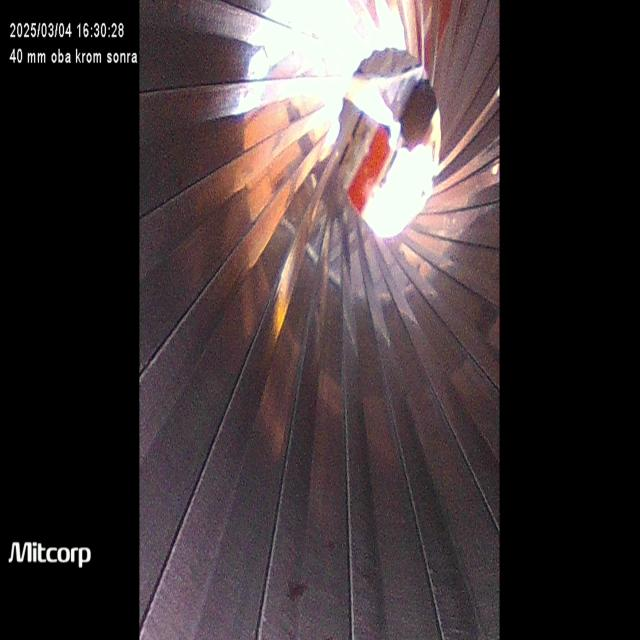hata_4.2: (402, 276, 445, 330), (278, 566, 314, 614), (315, 525, 353, 565)
